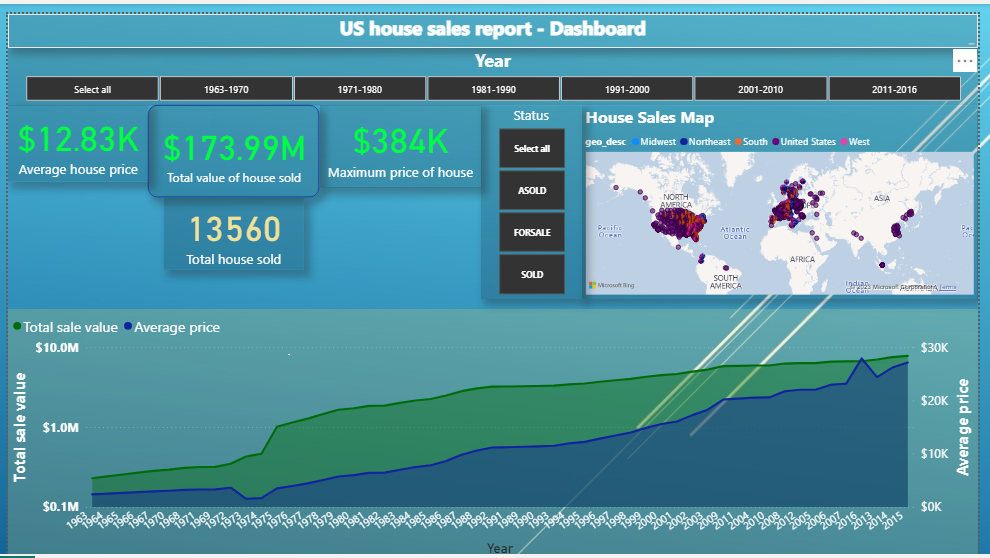

The page's visual inventory and layout, read from the dashboard file:
{"tool":"powerbi","page":{"name":"Page 1","canvas":[1366,768],"ordinal":0},"visuals":[{"type":"card","fields":{"Values":["Avg(house_sales.val)"]},"box":[0,128.8,197.6,108.3],"z":0},{"type":"card","fields":{"Values":["Sum(house_sales.val)"]},"box":[197.6,128.8,241.5,130.2],"z":1000},{"type":"card","fields":{"Values":["Max(house_sales.val)"]},"box":[439,128.8,226.8,115.6],"z":2000},{"type":"slicer","title":"Year","fields":{"Values":["house_sales.Year (groups)"]},"box":[0,48.4,1365.9,81.2],"z":3000},{"type":"map","title":"House Sales Map","fields":{"Series":["house_sales.geo_desc"],"Category":["house_sales.val"]},"box":[808.6,129.6,557.3,271.6],"z":4000},{"type":"areaChart","fields":{"Category":["house_sales.Year"],"Y":["Sum(house_sales.val)"],"Y2":["Avg(house_sales.val)"]},"box":[0,415.2,1365.9,352.8],"z":4001},{"type":"slicer","title":"Status","fields":{"Values":["house_sales.cat_code"]},"box":[666.5,129.6,142,271.6],"z":4004},{"type":"card","fields":{"Values":["house_sales.Count of geo_code total for geo_code"]},"box":[220.1,259.1,196.7,101.5],"z":4005},{"type":"textbox","title":"US house sales report - Dashboard","box":[0,0,1365.9,48.4],"z":4007}]}

Visuals, with their boxes in screenshot pixels (x1, y1, x2, y2), scaled from the page's 1366x768 canvas onto the 990x558 screenshot:
card - Avg(house_sales.val): x1=0, y1=94, x2=143, y2=172
card - Sum(house_sales.val): x1=143, y1=94, x2=318, y2=188
card - Max(house_sales.val): x1=318, y1=94, x2=483, y2=178
"Year" slicer: x1=0, y1=35, x2=989, y2=94
"House Sales Map" map: x1=586, y1=94, x2=989, y2=291
areaChart - house_sales.Year x Sum(house_sales.val): x1=0, y1=302, x2=989, y2=557
"Status" slicer: x1=483, y1=94, x2=586, y2=291
card - house_sales.Count of geo_code total for geo_code: x1=160, y1=188, x2=302, y2=262
"US house sales report - Dashboard" textbox: x1=0, y1=0, x2=989, y2=35
